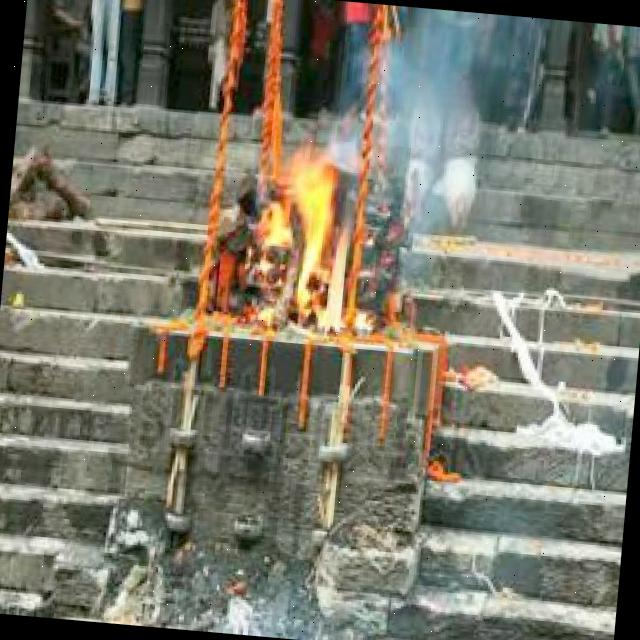fire: (248, 138, 360, 336)
